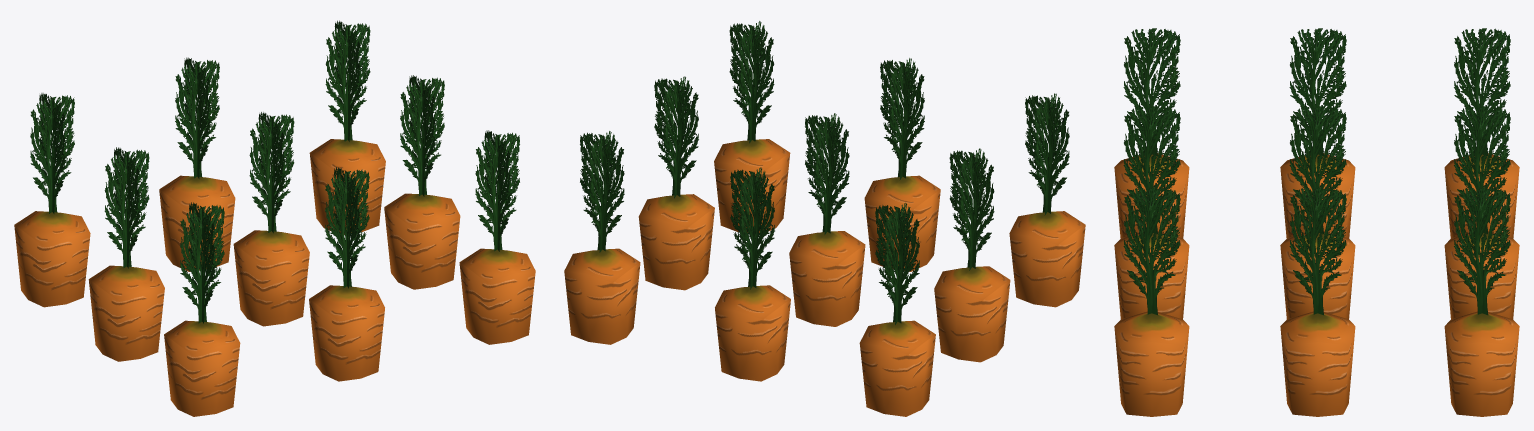
File: Crops_Carrots.fbx
3 views of the same model, side by side, from view 1: azimuth 30°, elevation 25°; view 2: azimuth 150°, elevation 25°; view 3: azimuth 270°, elevation 25° (orthographic). The views are drawn at different scales.
Visible parts, largest first — view 1: Carrot, Carrot.006, Carrot.005, Carrot.007, Carrot.002, Carrot.003, Carrot.008, Carrot.004, Carrot.001, Carrot_Top.007, Carrot_Top.001, Carrot_Top.004 (+6 smaller); view 2: Carrot.006, Carrot.003, Carrot.004, Carrot.008, Carrot.001, Carrot.007, Carrot, Carrot.005, Carrot.002, Carrot_Top.008, Carrot_Top.003, Carrot_Top (+6 smaller); view 3: Carrot.003, Carrot.005, Carrot.004, Carrot_Top.004, Carrot_Top.003, Carrot_Top.005, Carrot_Top.001, Carrot_Top, Carrot_Top.002, Carrot_Top.007, Carrot_Top.006, Carrot_Top.008 (+6 smaller).
Part boxes in pixels (bbox=[...]): Carrot: bbox=[233, 230, 309, 326]; Carrot.006: bbox=[88, 265, 164, 361]; Carrot.005: bbox=[459, 248, 535, 344]; Carrot.007: bbox=[14, 211, 90, 307]; Carrot.002: bbox=[309, 285, 384, 381]; Carrot.003: bbox=[384, 193, 460, 289]; Carrot.008: bbox=[164, 320, 240, 416]; Carrot.004: bbox=[309, 139, 385, 234]; Carrot.001: bbox=[159, 175, 235, 271]; Carrot_Top.007: bbox=[30, 93, 74, 213]; Carrot_Top.001: bbox=[175, 57, 219, 178]; Carrot_Top.004: bbox=[325, 20, 370, 141]; Carrot.006: bbox=[934, 266, 1010, 362]; Carrot.003: bbox=[638, 194, 714, 290]; Carrot.004: bbox=[564, 248, 640, 344]; Carrot.008: bbox=[1009, 211, 1085, 307]; Carrot.001: bbox=[715, 285, 790, 381]; Carrot.007: bbox=[859, 320, 935, 416]; Carrot: bbox=[789, 231, 865, 326]; Carrot.005: bbox=[714, 139, 790, 232]; Carrot.002: bbox=[864, 175, 940, 271]; Carrot_Top.008: bbox=[1025, 93, 1069, 215]; Carrot_Top.003: bbox=[654, 76, 698, 198]; Carrot_Top: bbox=[805, 113, 849, 234]; Carrot.003: bbox=[1280, 311, 1355, 416]; Carrot.005: bbox=[1114, 311, 1189, 416]; Carrot.004: bbox=[1444, 311, 1519, 416]; Carrot_Top.004: bbox=[1454, 187, 1510, 315]; Carrot_Top.003: bbox=[1289, 187, 1346, 315]; Carrot_Top.005: bbox=[1123, 187, 1180, 315]; Carrot_Top.001: bbox=[1454, 106, 1510, 234]; Carrot_Top: bbox=[1289, 106, 1346, 234]; Carrot_Top.002: bbox=[1123, 106, 1180, 234]; Carrot_Top.007: bbox=[1454, 28, 1510, 156]; Carrot_Top.006: bbox=[1289, 28, 1346, 156]; Carrot_Top.008: bbox=[1123, 28, 1180, 156].
Size of the model in its own units: 3.31 by 1.77 by 2.97.
